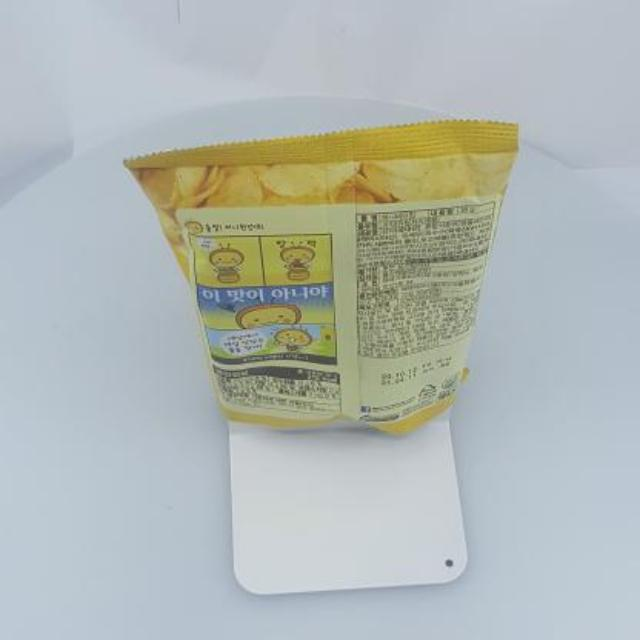snack_bag: (110, 103, 534, 450)
